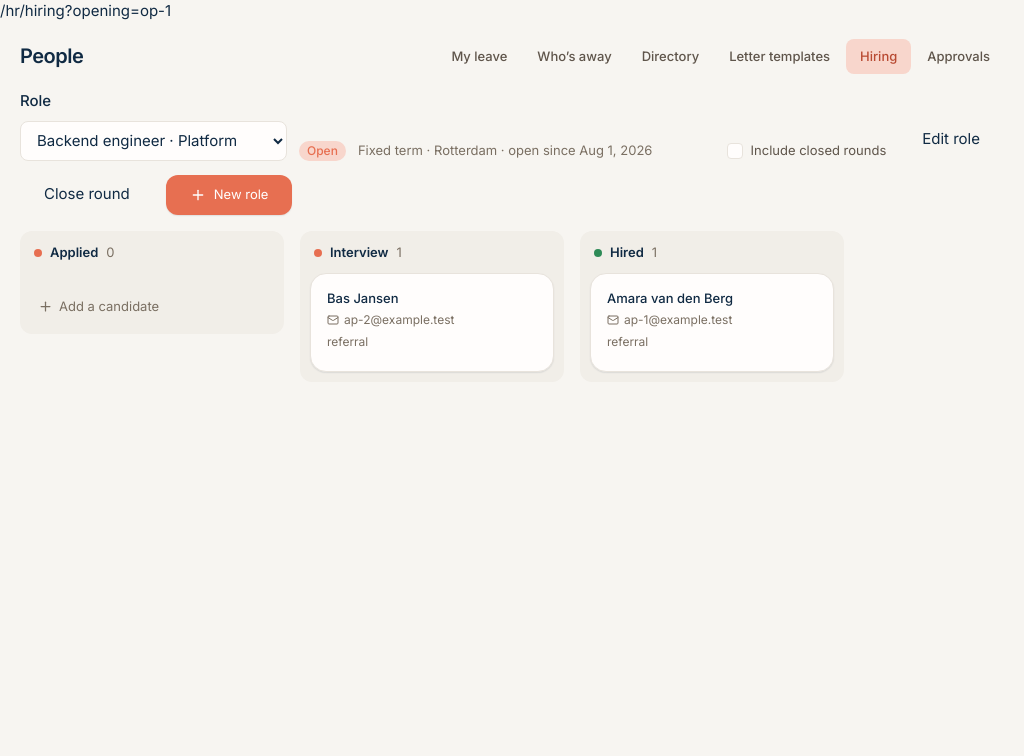
Scenario: somebody who took the job › the form opens on the application and the round, and posts one record
Click the text "Amara van den Berg" at {"x": 670, "y": 298}, box [607,290,733,306]
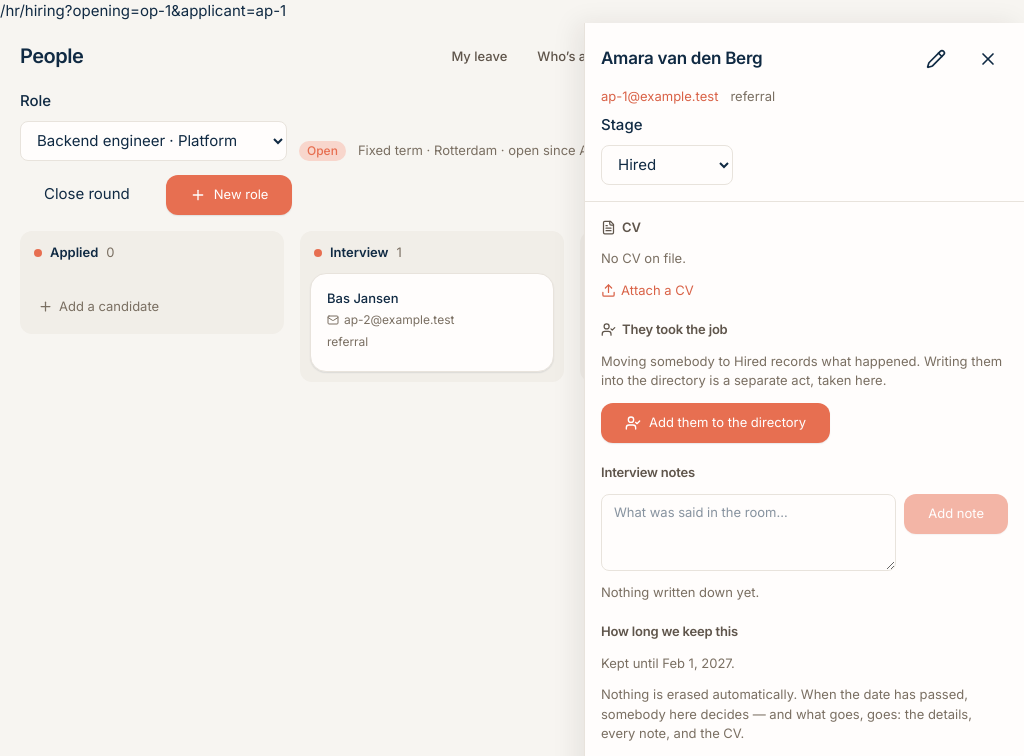
Expected: the text "Nothing written down yet." is shown, [601,582,759,602]
Click the button "Add them to the directory" at {"x": 716, "y": 422}, box [601,402,830,442]
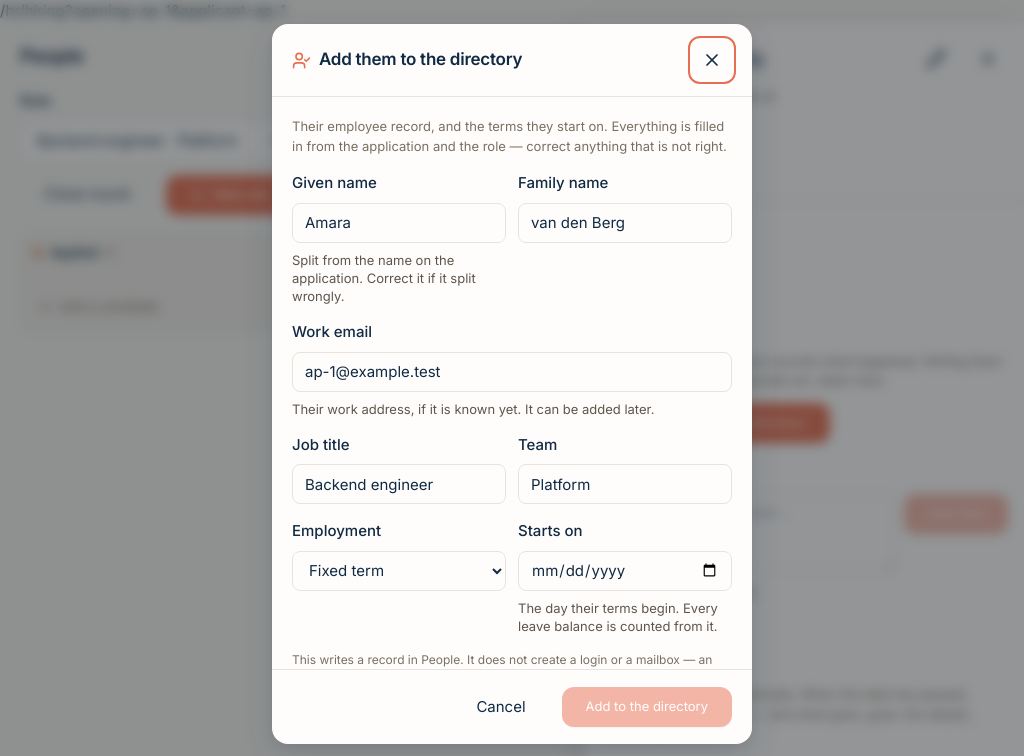
Expected: the field labelled "Given name" holds "Amara", [292,202,506,242]
Expected: the field labelled "Family name" holds "van den Berg", [518,202,732,242]
Expected: the field labelled "Job title" holds "Backend engineer", [292,464,506,504]
Type "2026-09-01" into the date field labelled "Starts on" at {"x": 625, "y": 571}, box [518,551,732,591]
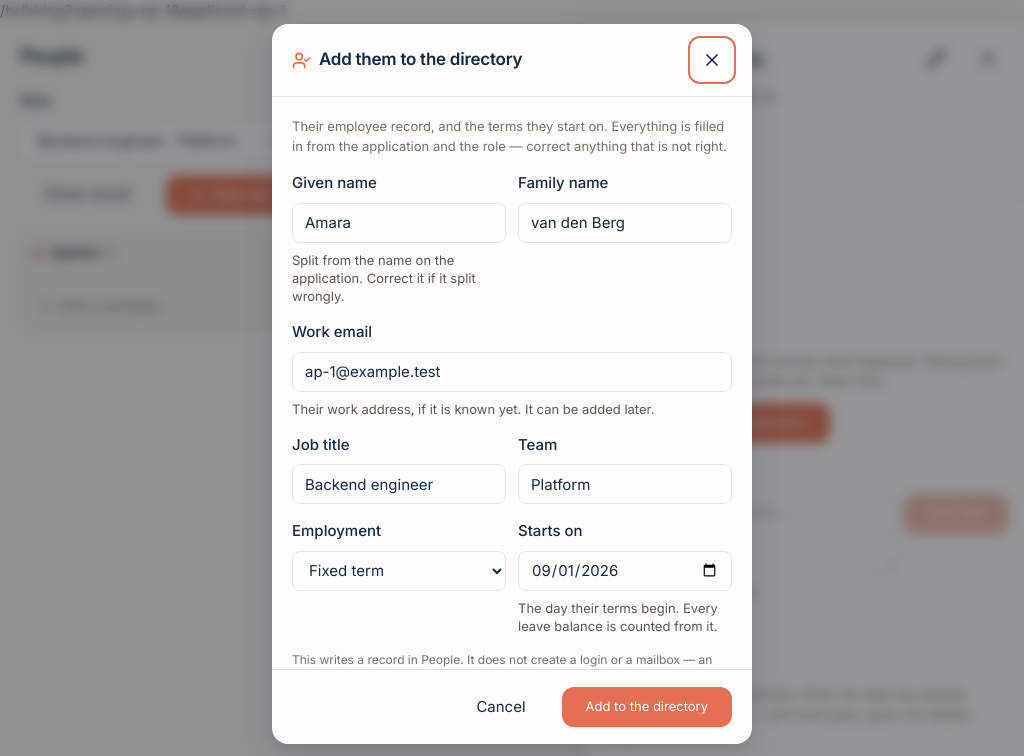
Click the button "Add to the directory" at {"x": 647, "y": 707}, box [562,687,732,727]
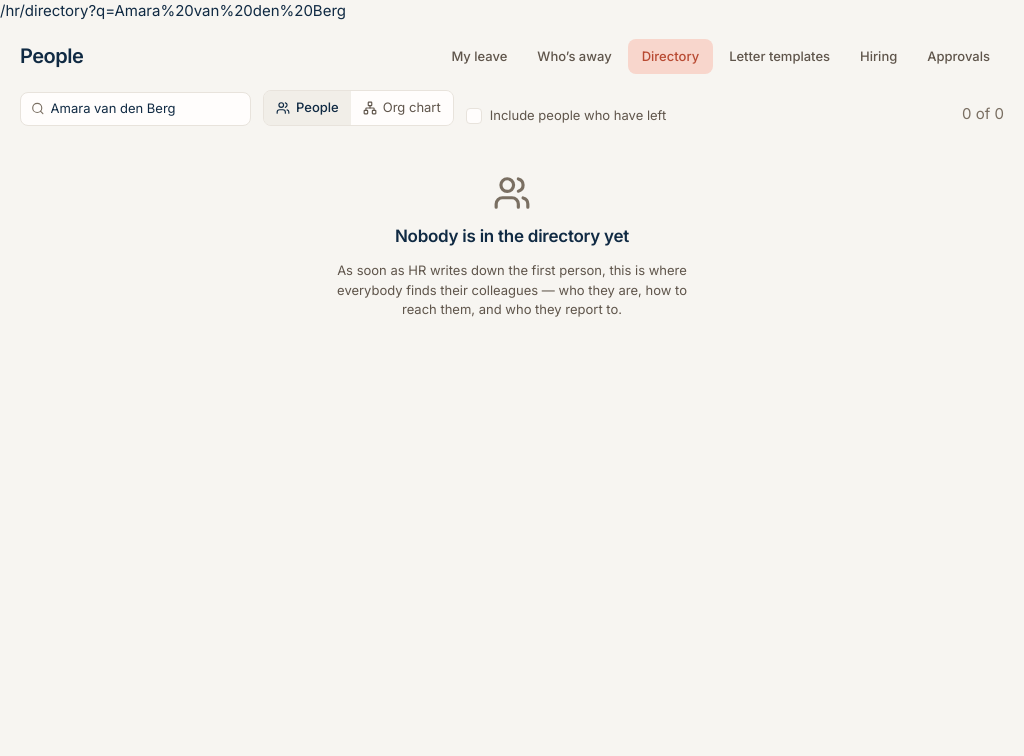
Expected: the text with test id "where" reads "/hr/directory?q=Amara%20van%20den%20Berg", [0,1,346,20]
